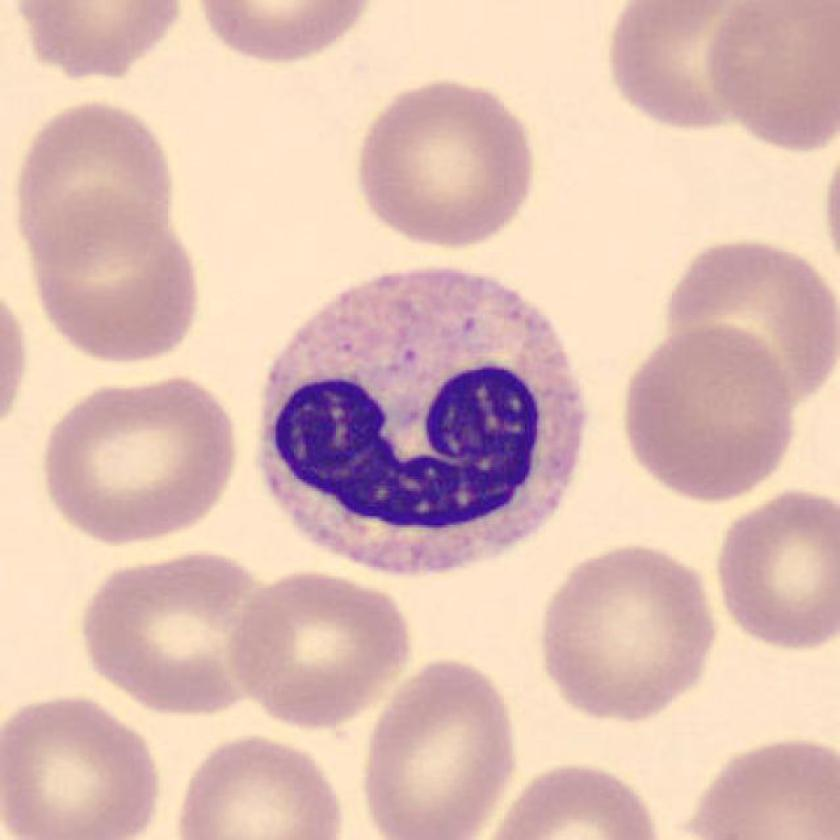neutrophil: (260, 273, 583, 576)
